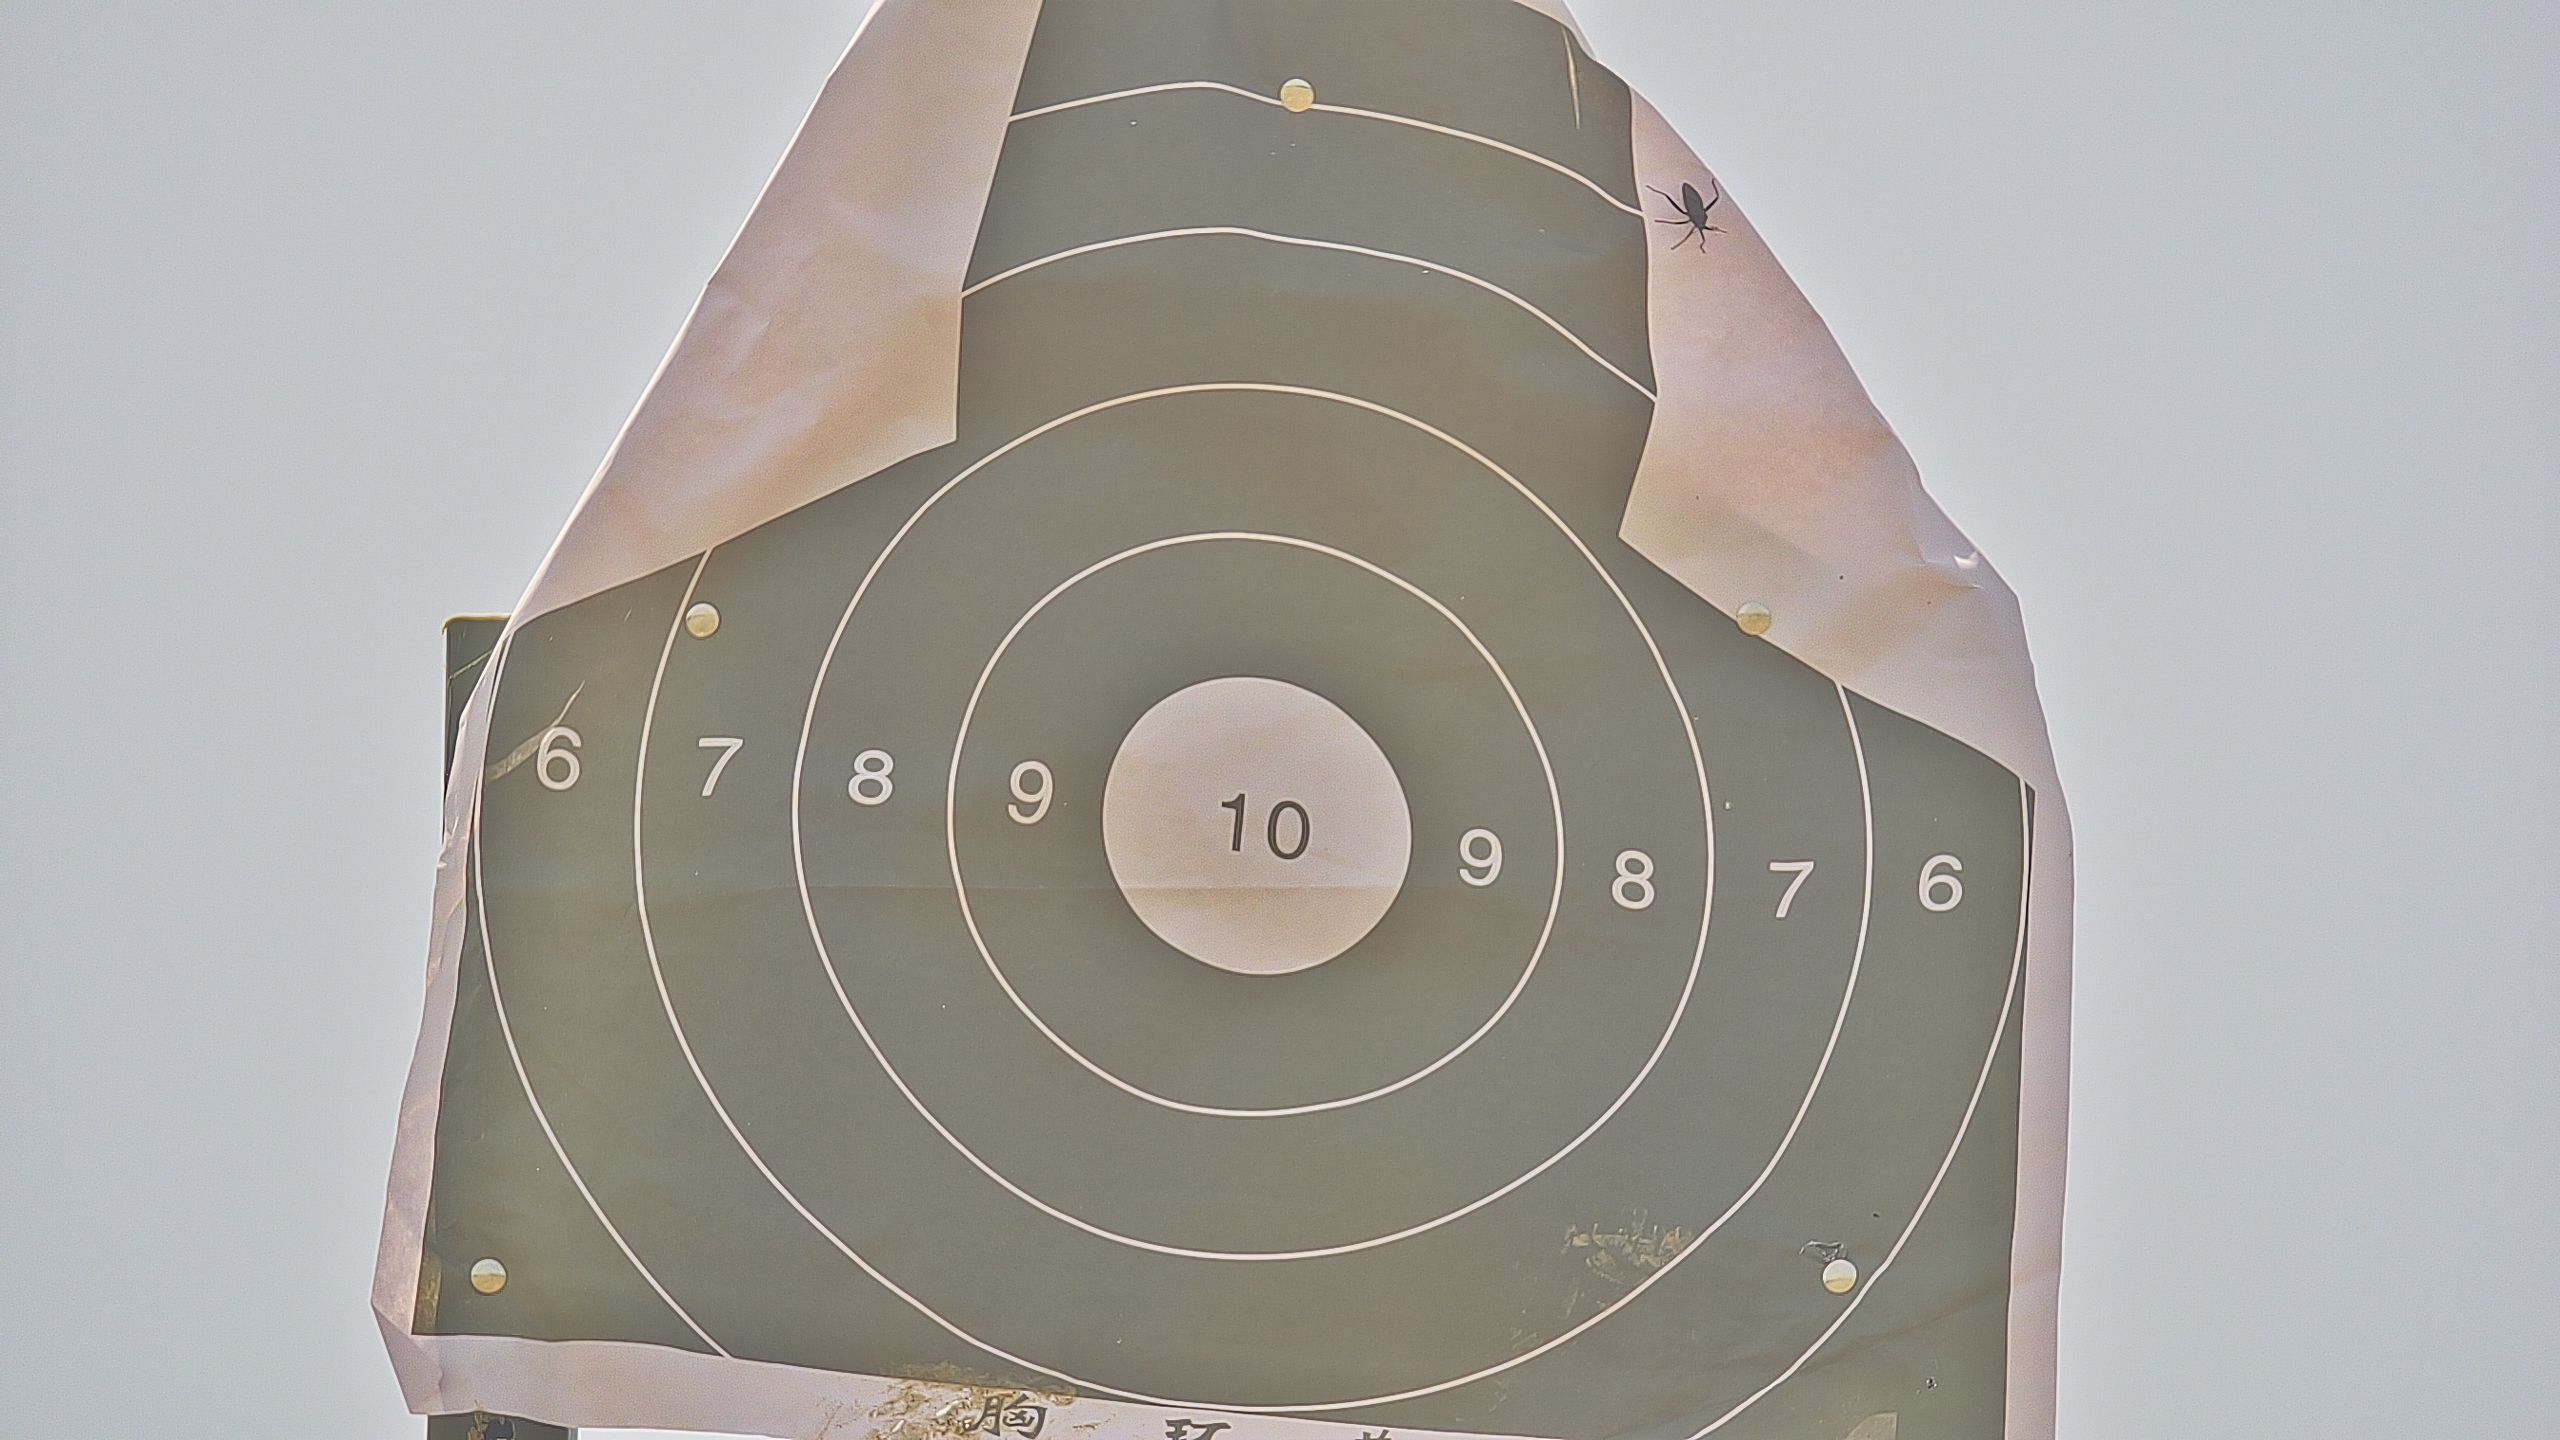kernel: (1248, 825, 1255, 828)
target: (403, 2, 2029, 1440)
ten: (1102, 675, 1415, 972)
